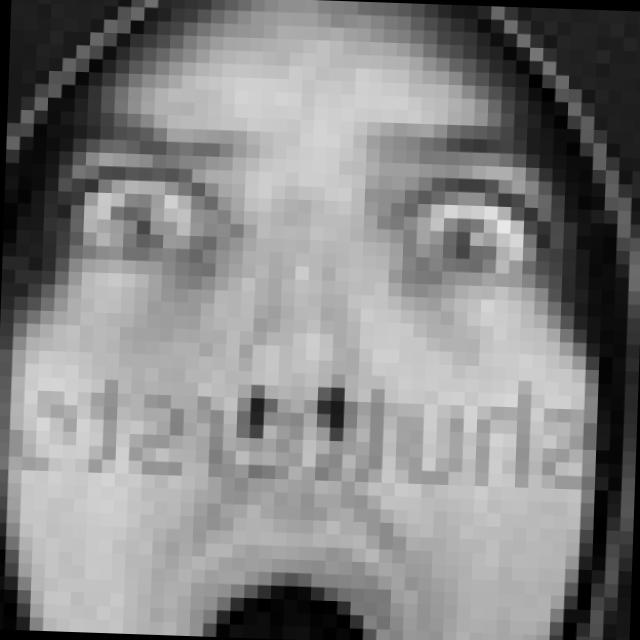surprise: (32, 83, 571, 640)
